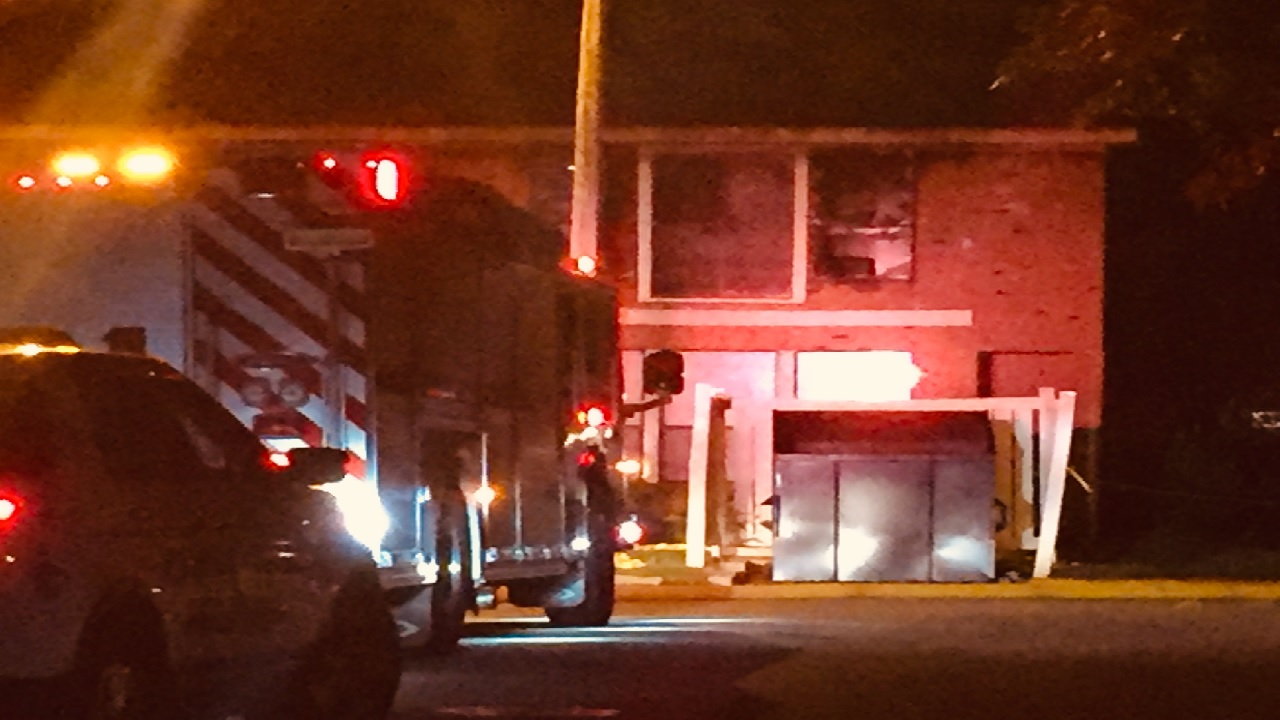Fire: (48, 133, 176, 193)
